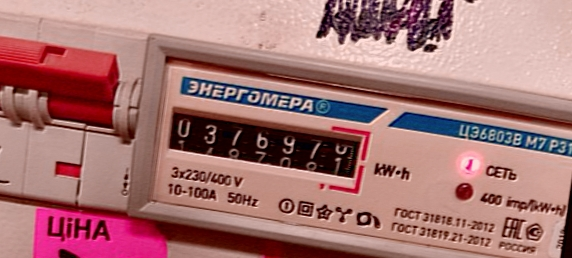0: (177, 116, 194, 140)
1: (331, 156, 346, 177)
3: (203, 123, 221, 147)
6: (255, 127, 273, 152)
7: (228, 124, 246, 149), (308, 137, 325, 162)
9: (280, 132, 298, 157)
screen: (156, 97, 375, 200)
